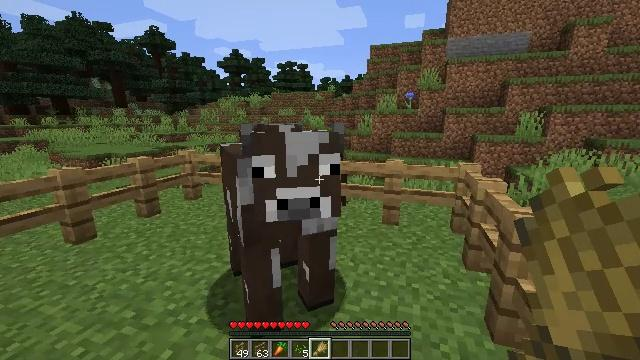cow: (220, 132, 342, 319)
